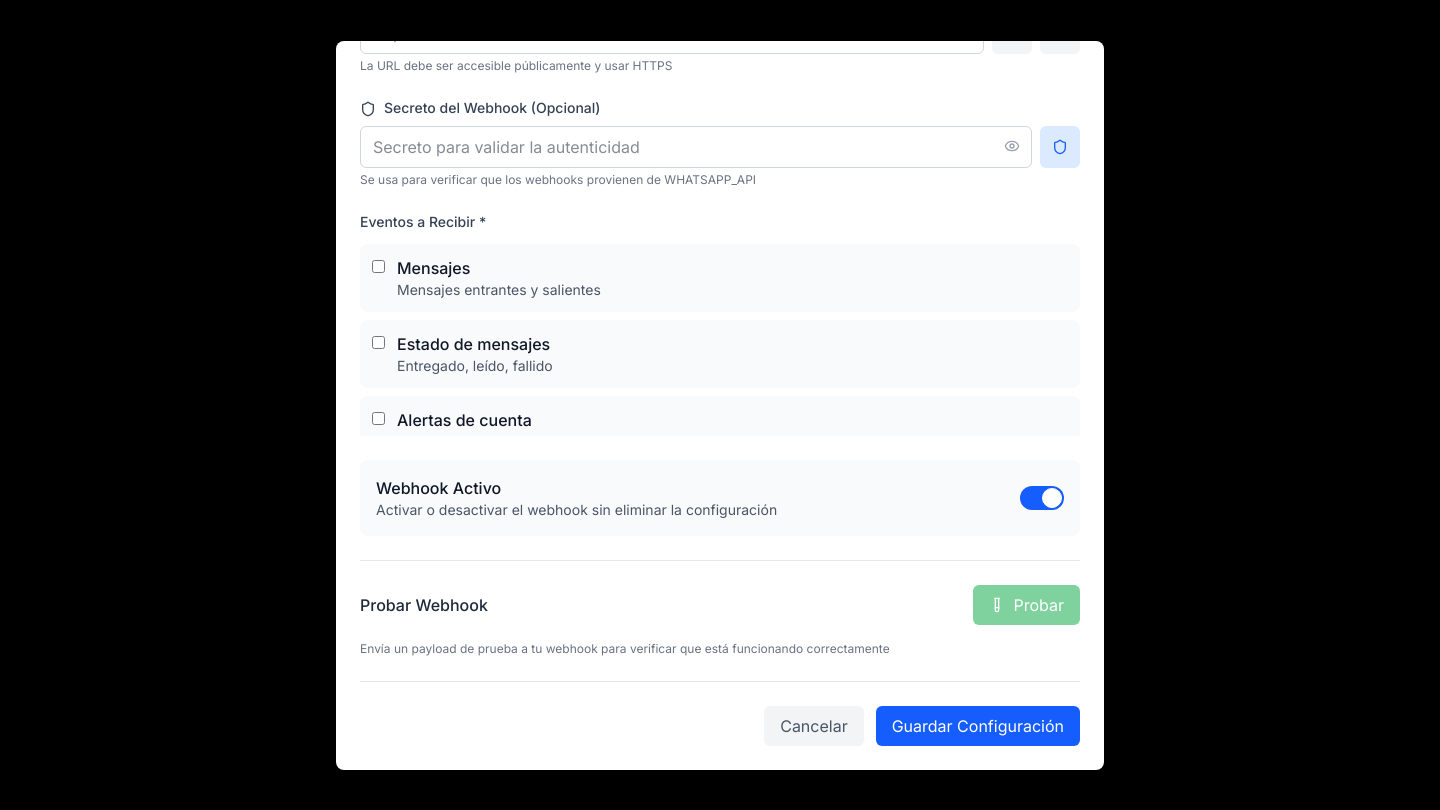
WebhookConfigModal › validates required fields
(page scrolled)
Click the button "Guardar Configuración".
click(978, 726)  # box [876,706,1080,746]
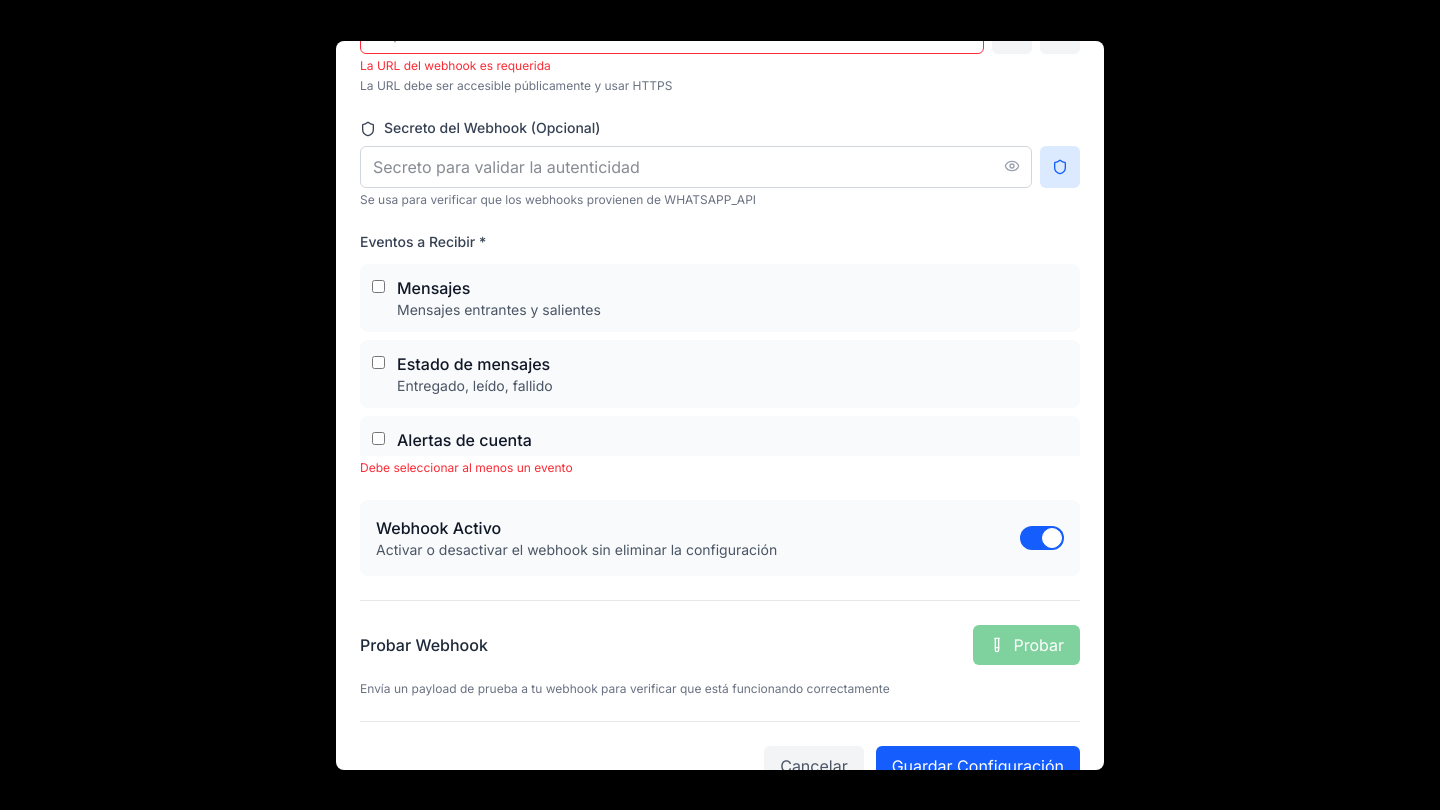
Now the text "La URL del webhook es requerida" is shown, box [360,58,551,72]
Now the text "Debe seleccionar al menos un evento" is shown, box [360,460,573,474]
